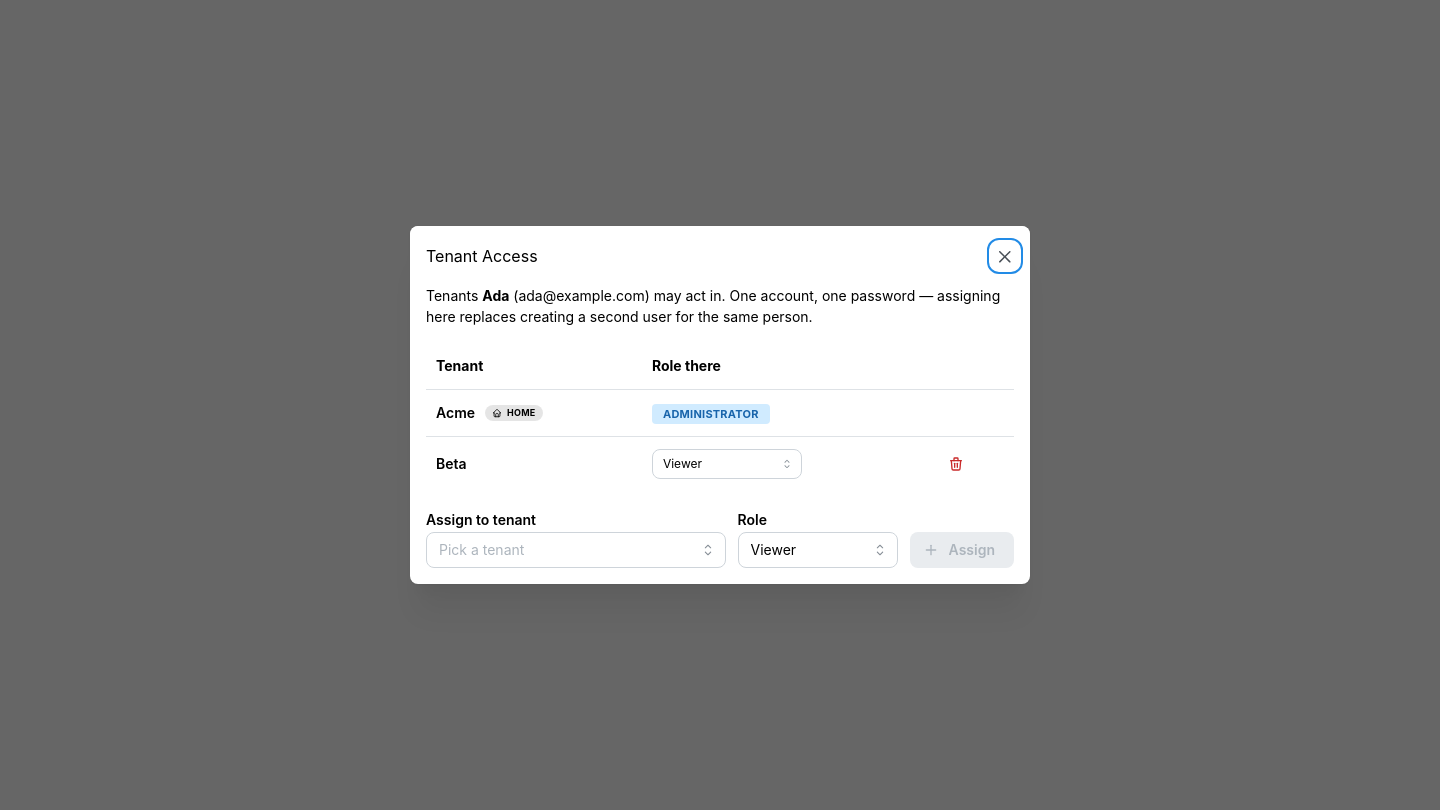
Test: UserTenantsModal › only offers tenants the account is not already in
Click the dropdown with placeholder "Pick a tenant" at (576, 550), box [426,532,726,568]
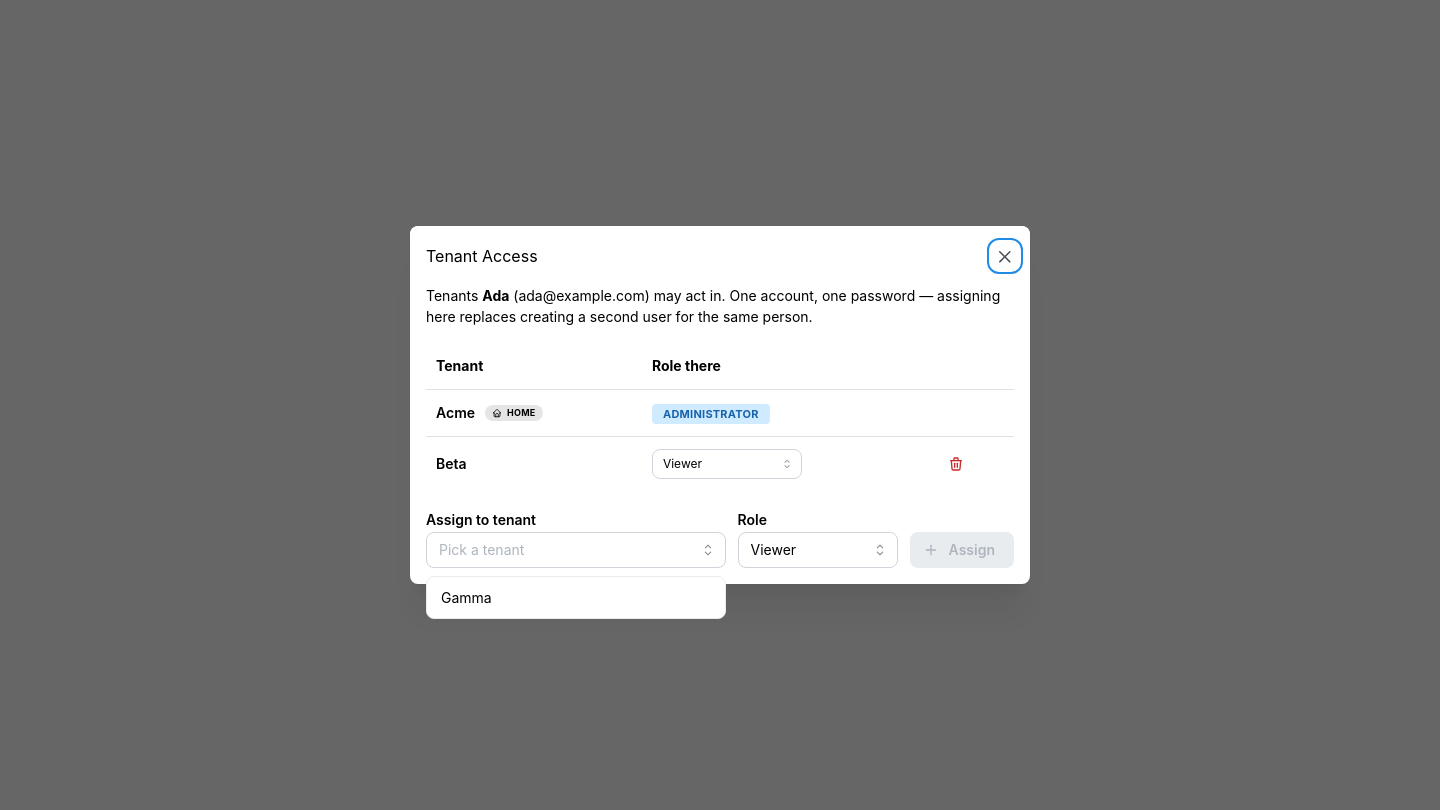
Expected: the text "Gamma" is shown, [441,586,492,608]
